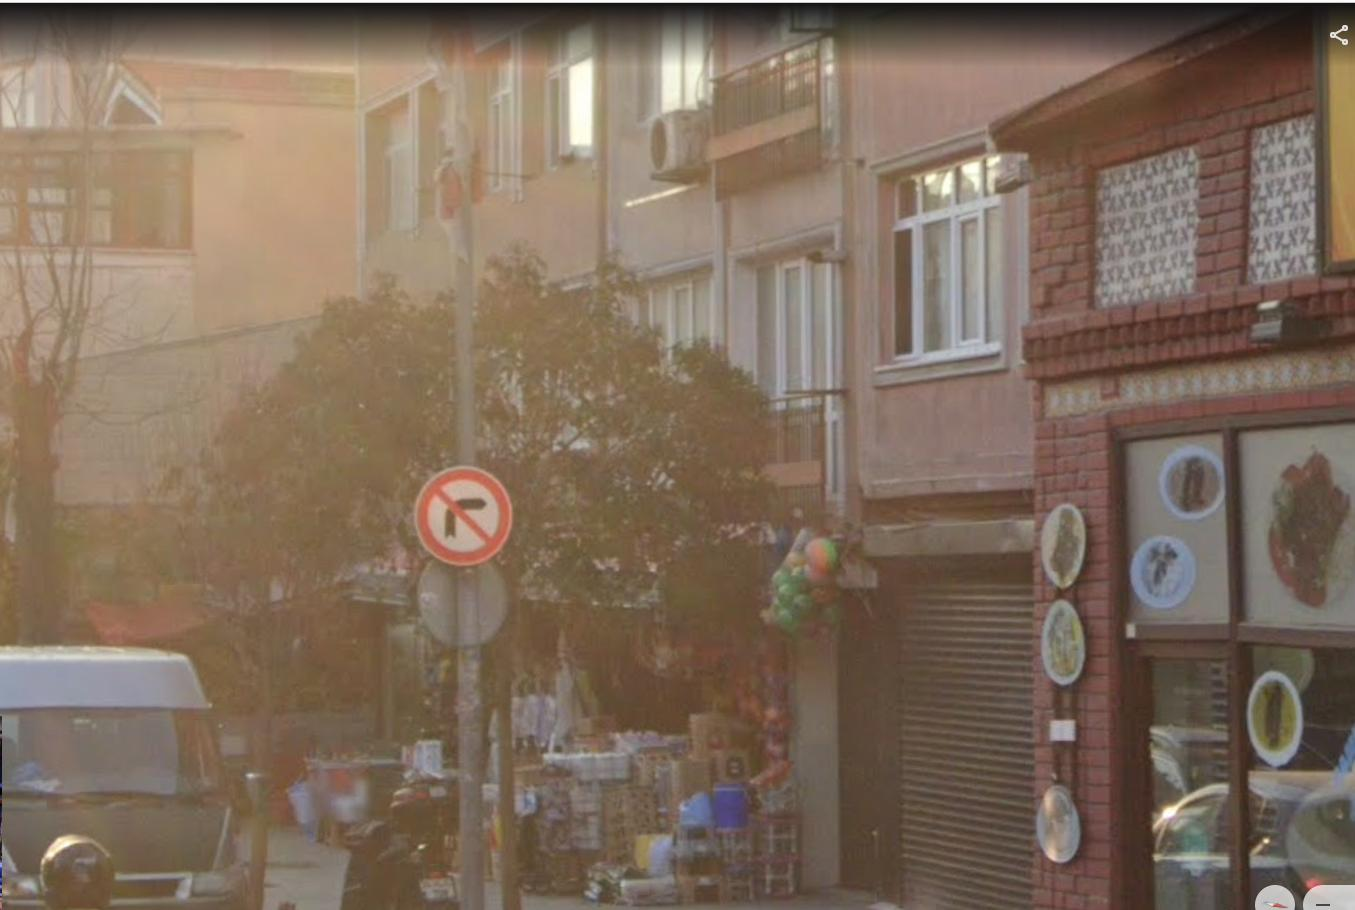rightturnsareforbidden: (430, 475, 507, 565)
